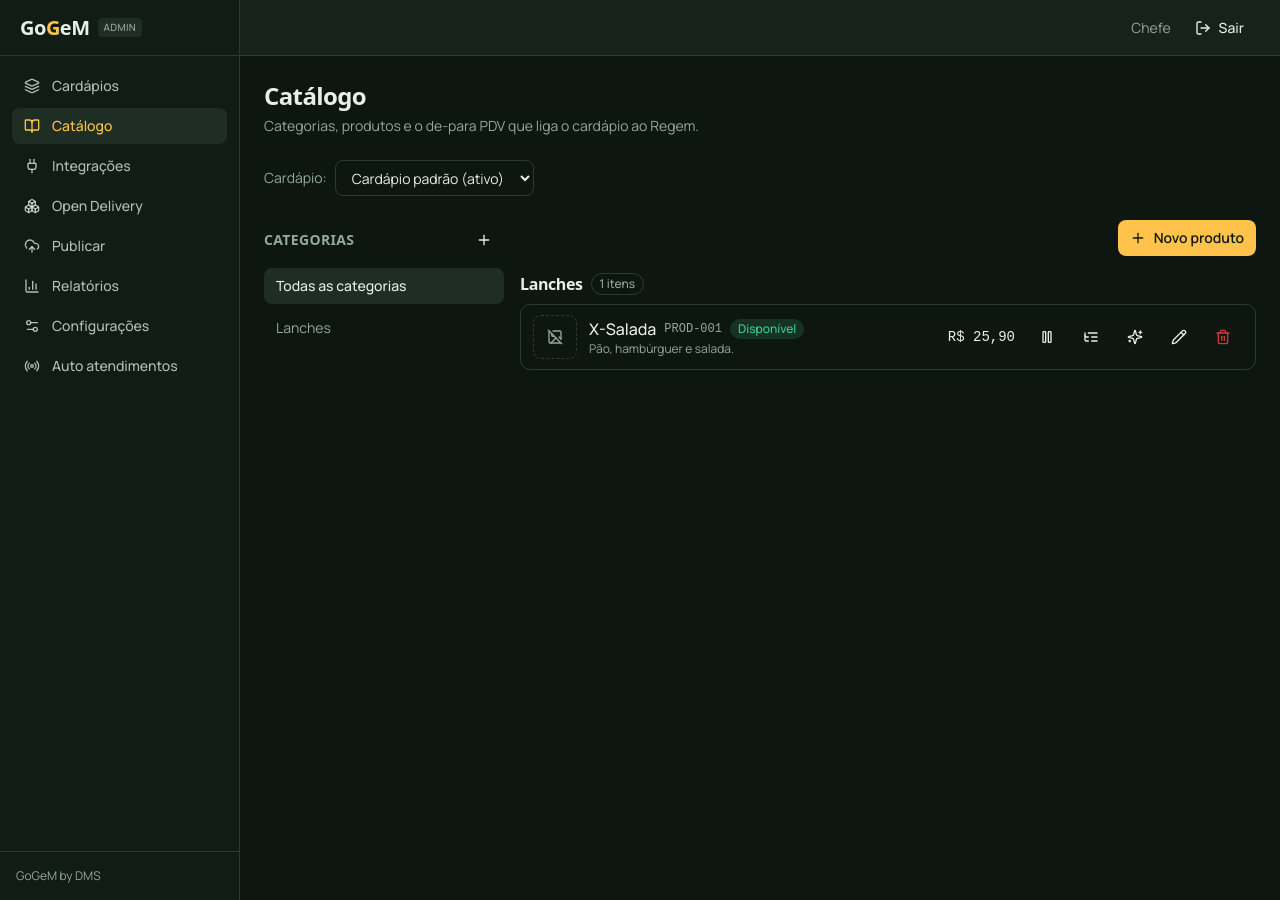
Scenario: Catálogo — complementos › abre o editor e mostra etapa, opções, código PDV e "informativa"
The image size is (1280, 900).
What coordinates should you click on to do the following:
click the button named "Complementos de X-Salada"
I would click on:
 (1091, 337)
Its box is [1071,317,1111,357].
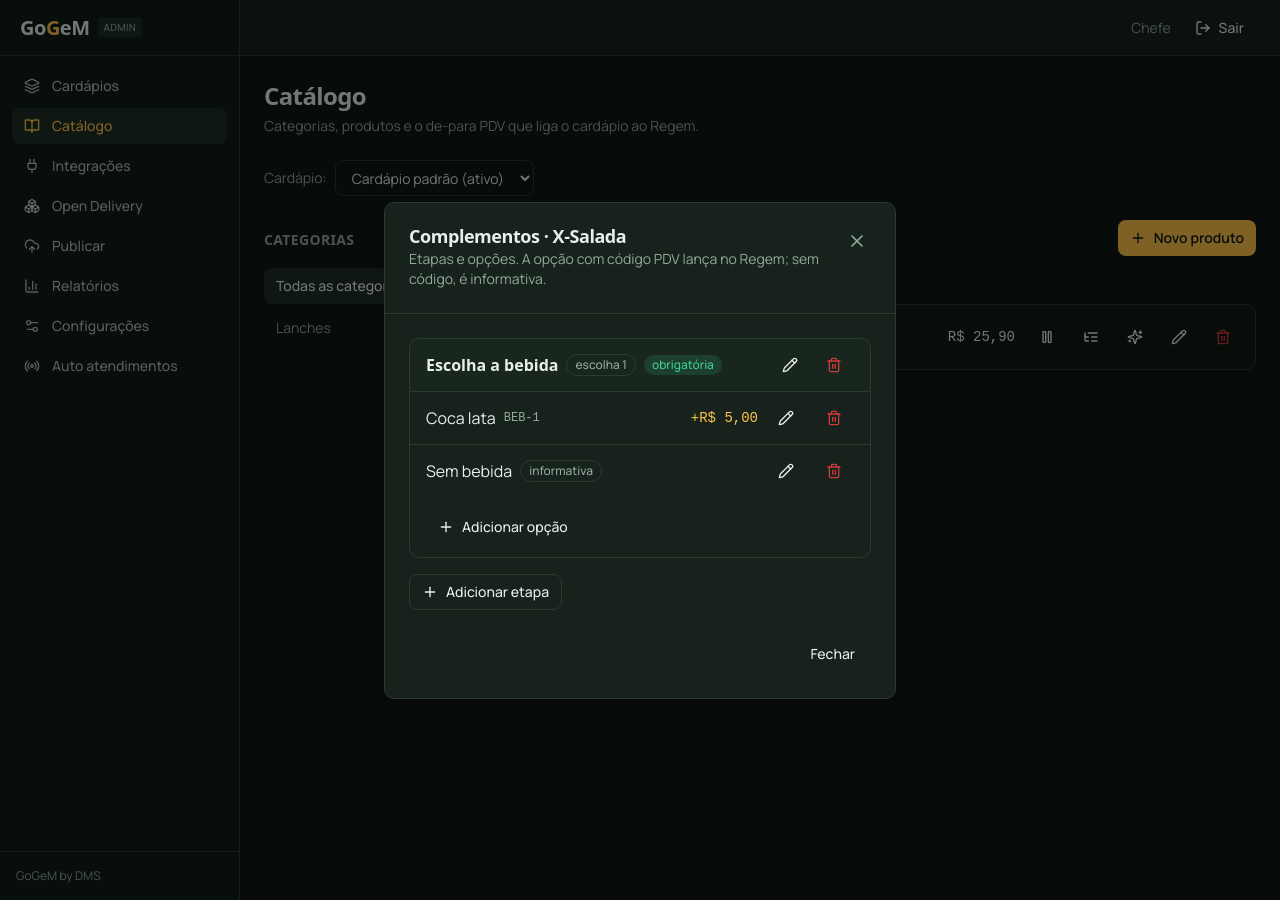
Expected: the text "Escolha a bebida" is shown, [426,352,558,376]
Expected: the text "obrigatória" is shown, [644,354,722,374]
Expected: the text "Coca lata" is shown, [426,406,496,430]
